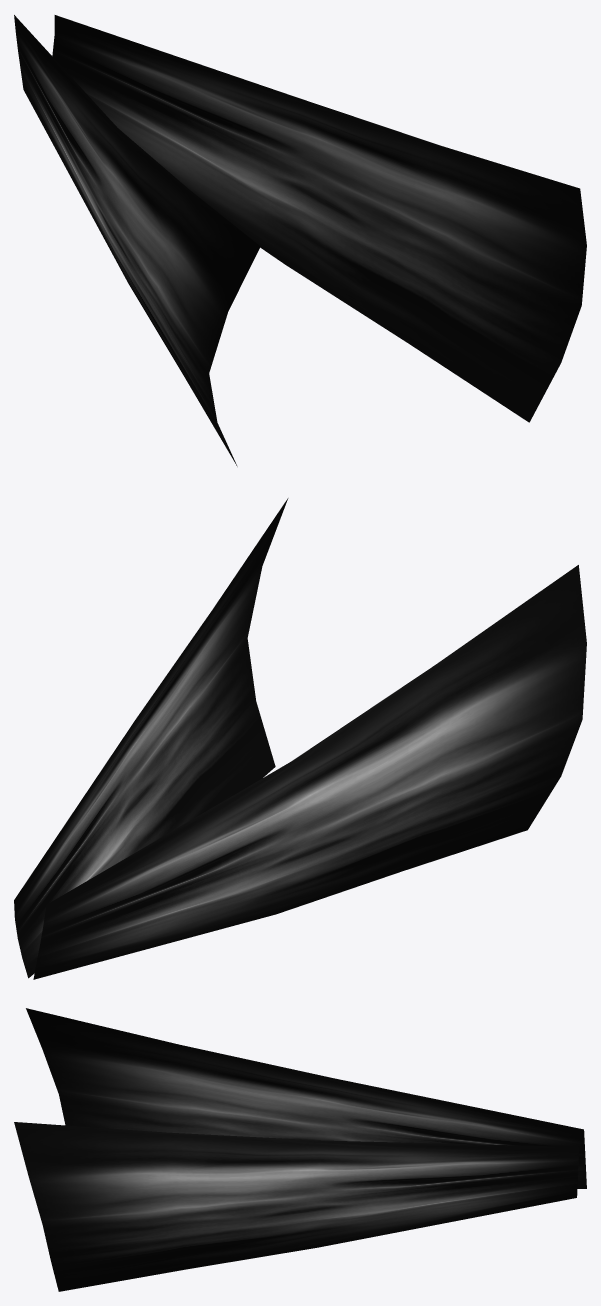
The model's file is SM_fx_rebound_00.fbx.
The picture shows the model from 3 angles, top to bottom: view 1: azimuth 30°, elevation 25°; view 2: azimuth 150°, elevation 25°; view 3: azimuth 270°, elevation 25°; orthographic projection. The views are drawn at different scales.
Parts seen in each view (by area): view 1: SM_rebound_00; view 2: SM_rebound_00; view 3: SM_rebound_00.
Boxes of the visible parts, box(x1,y1,x2,y2) form: SM_rebound_00: box(14, 15, 586, 466); SM_rebound_00: box(14, 498, 586, 979); SM_rebound_00: box(14, 1008, 586, 1291).
Bounding box in the file's own units: 158 × 111 × 312.
